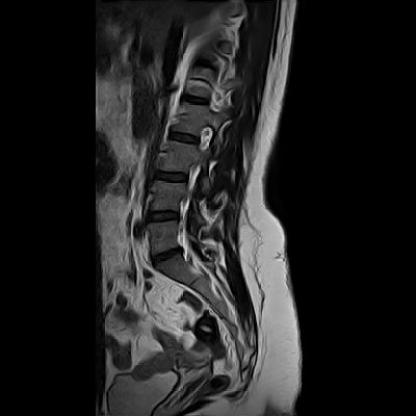Disc Bulgerotation: (144, 207, 180, 226)
Disc Protrusionrotation: (149, 247, 187, 264)
